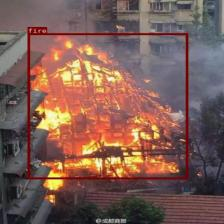fire: (27, 33, 188, 179)
